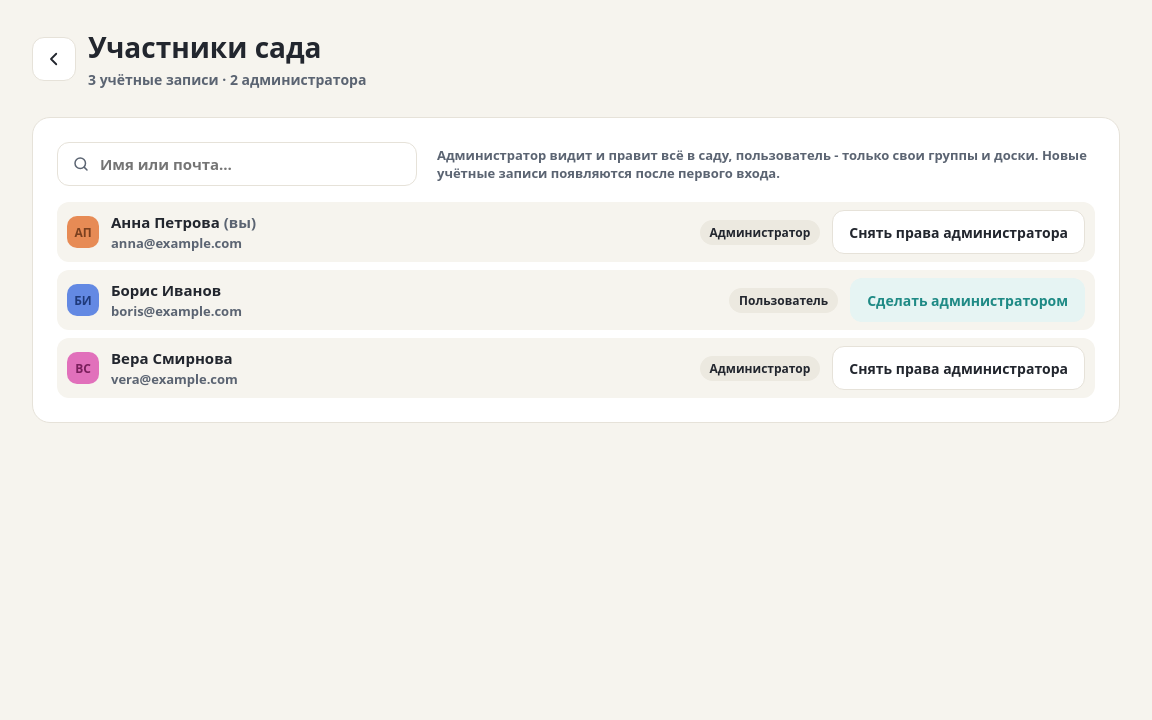
Test case: PeoplePage: учётные записи сада › последнего администратора снять нельзя: сервер отвечает last_admin, показываем подсказку
The image size is (1152, 720).
Check: the text "Борис Иванов" is shown, box x1=111 y1=280 x2=221 y2=300
Click the button "Снять права администратора" in the row of "Вера Смирнова": click(959, 368) x1=832 y1=346 x2=1085 y2=390
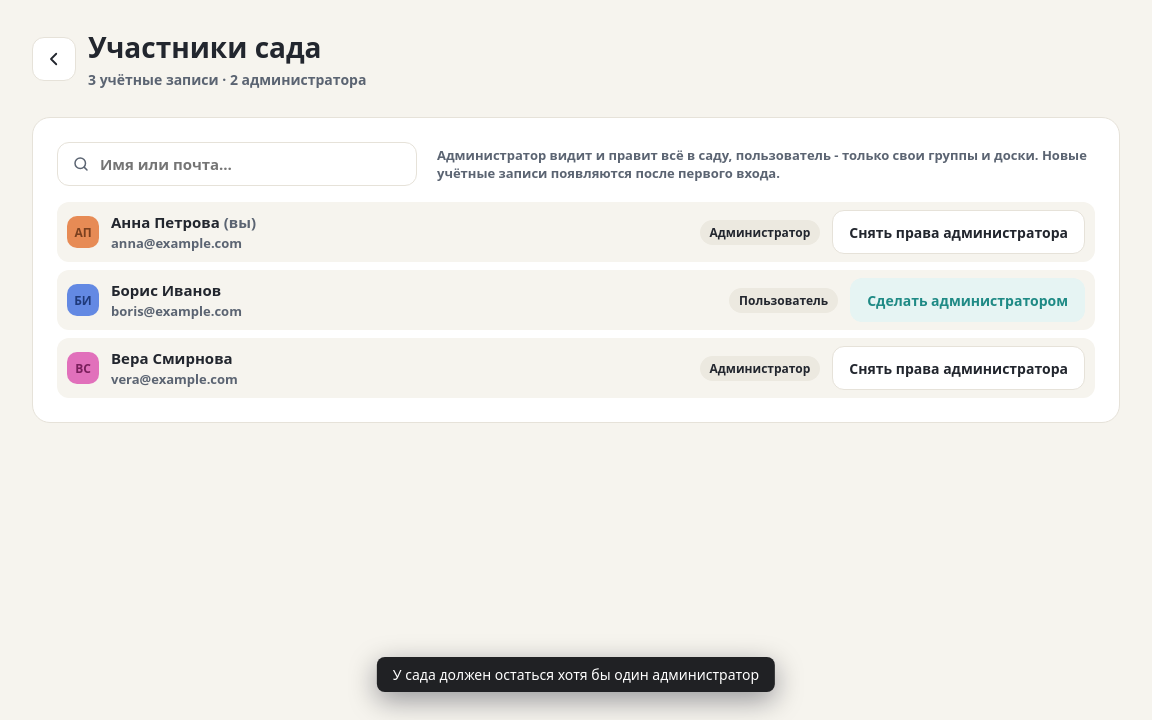
Check: the text "Администратор" in the row of "Вера Смирнова" is shown, box x1=710 y1=360 x2=810 y2=376
Check: the text "У сада должен остаться хотя бы один администратор" is shown, box x1=377 y1=657 x2=775 y2=692
